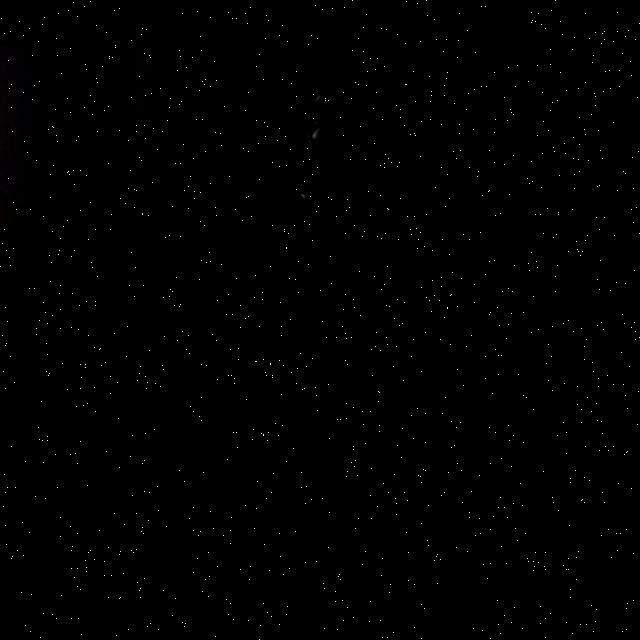bottle: (148, 0, 507, 525)
